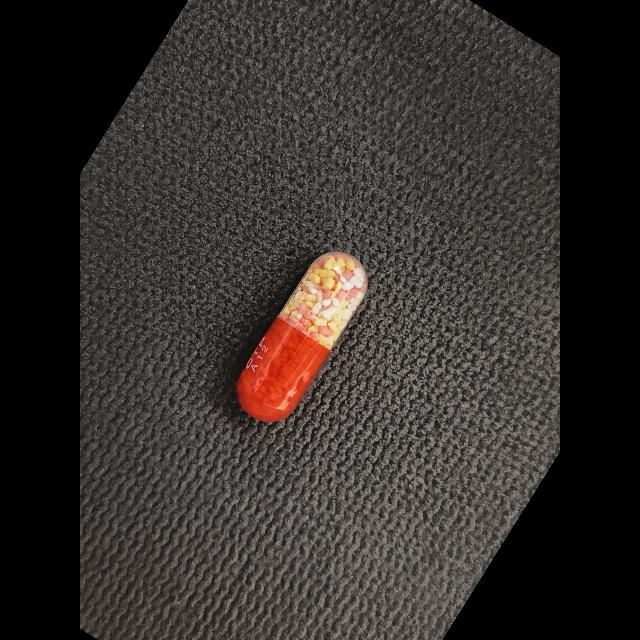Intact Capsule: (237, 252, 368, 421)
